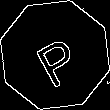P_NW: (26, 24, 84, 86)
